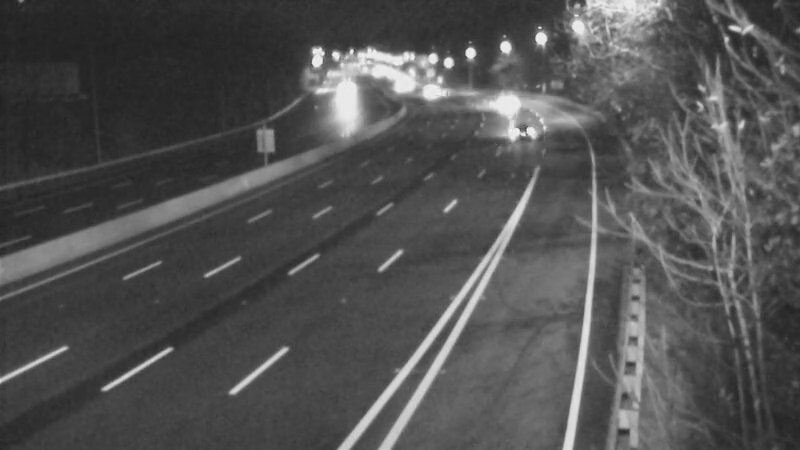vehicle: (402, 64, 452, 114), (484, 78, 534, 128), (496, 105, 546, 155), (323, 72, 373, 122)
